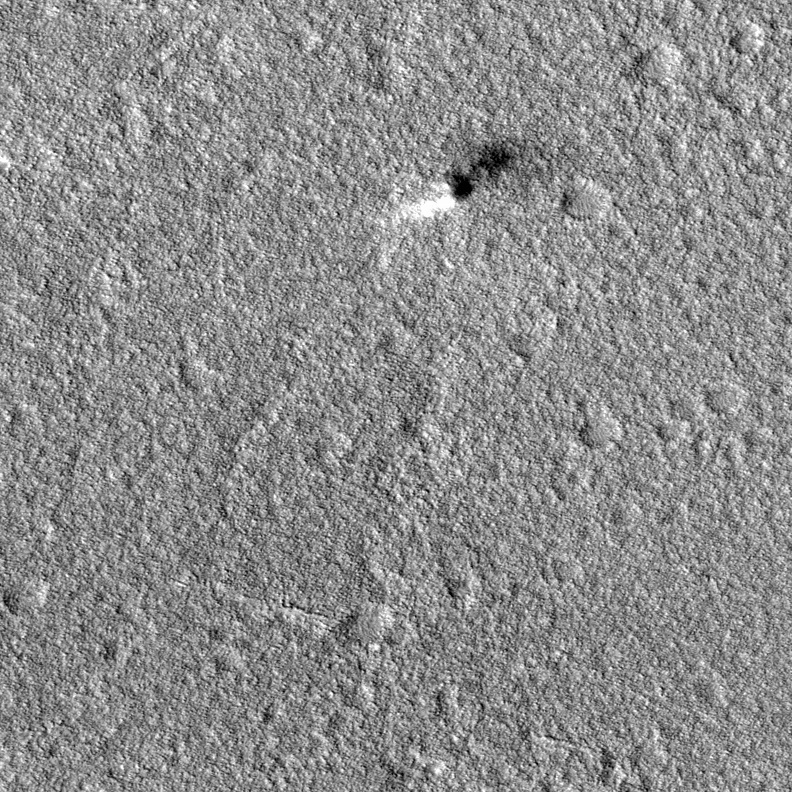dust_devil: (405, 139, 519, 223)
